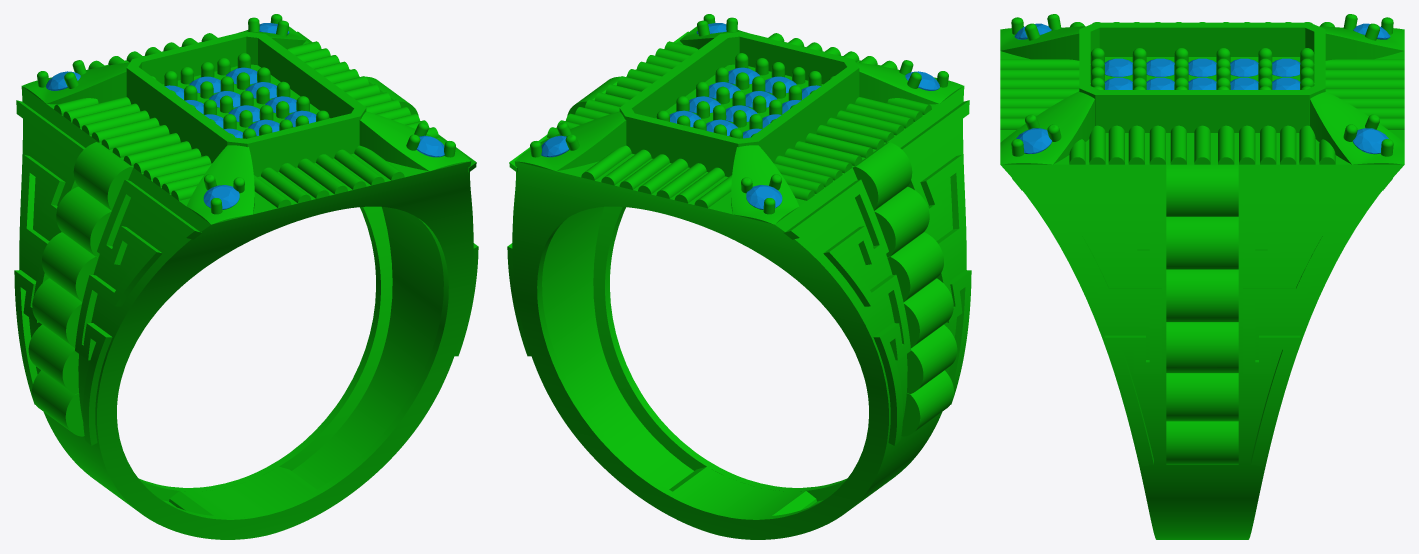
The picture shows the model from 3 angles, left to right: view 1: azimuth 30°, elevation 25°; view 2: azimuth 150°, elevation 25°; view 3: azimuth 270°, elevation 25°; orthographic projection. The views are drawn at different scales.
Visible parts, largest first — view 1: E 70.3dm, Diamond_Round; view 2: E 70.3dm, Diamond_Round; view 3: E 70.3dm, Diamond_Round (×7).
Part boxes in pixels (<box>): E 70.3dm: <box>14,26,478,539</box>; Diamond_Round: <box>203,185,239,209</box>; E 70.3dm: <box>507,26,971,539</box>; Diamond_Round: <box>746,185,782,209</box>; E 70.3dm: <box>1000,22,1404,539</box>; Diamond_Round (×7): <box>1016,58,1388,153</box>.
Bounding box in the file's own units: 2.42 × 2.49 × 1.98.
